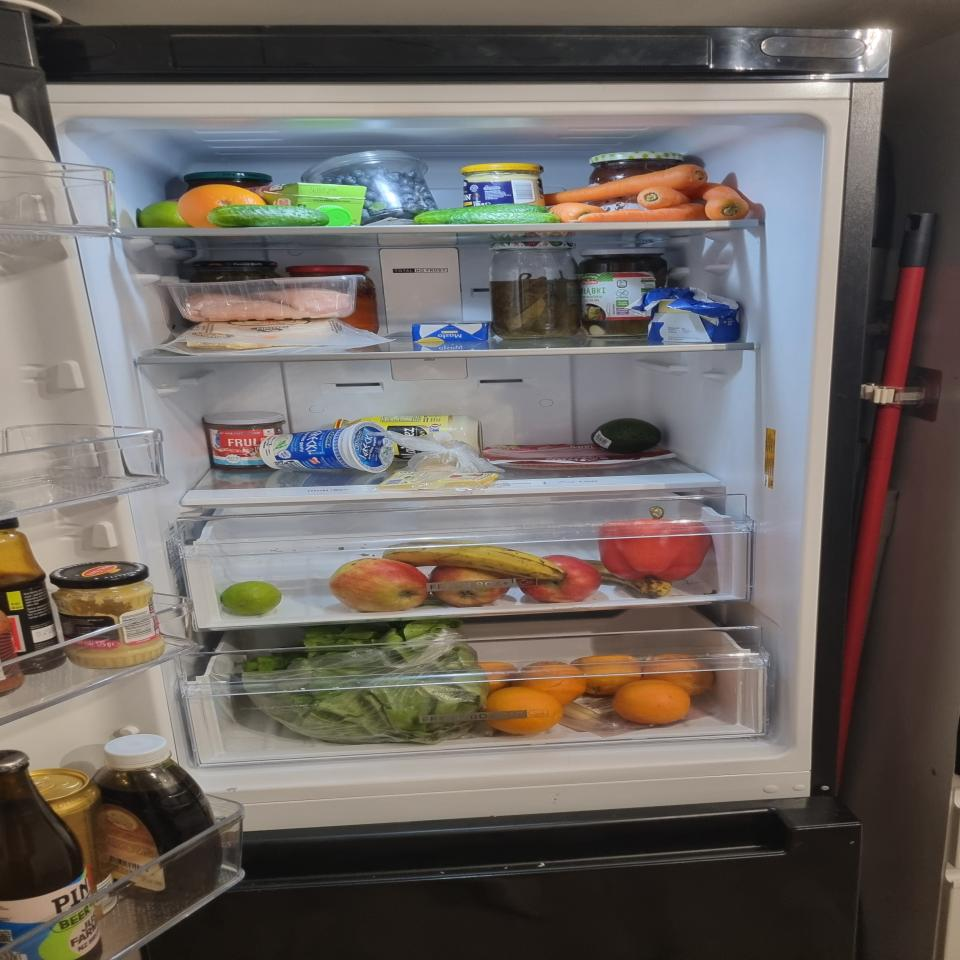Aguacate: (591, 418, 662, 452)
Carne pollo: (154, 274, 364, 322)
Lechuga/Endivia: (241, 618, 487, 745)
Mantequilla: (627, 287, 740, 343), (411, 320, 495, 343)
Manzana: (328, 558, 429, 612), (516, 555, 603, 603), (429, 566, 512, 607)
Pepino: (206, 204, 329, 228), (415, 204, 562, 224)
Plátano: (382, 539, 567, 583), (578, 558, 673, 598)
Queso: (186, 319, 338, 350), (376, 470, 500, 492)
Yogur: (259, 421, 395, 474)
Zanahoria: (544, 164, 750, 224)
